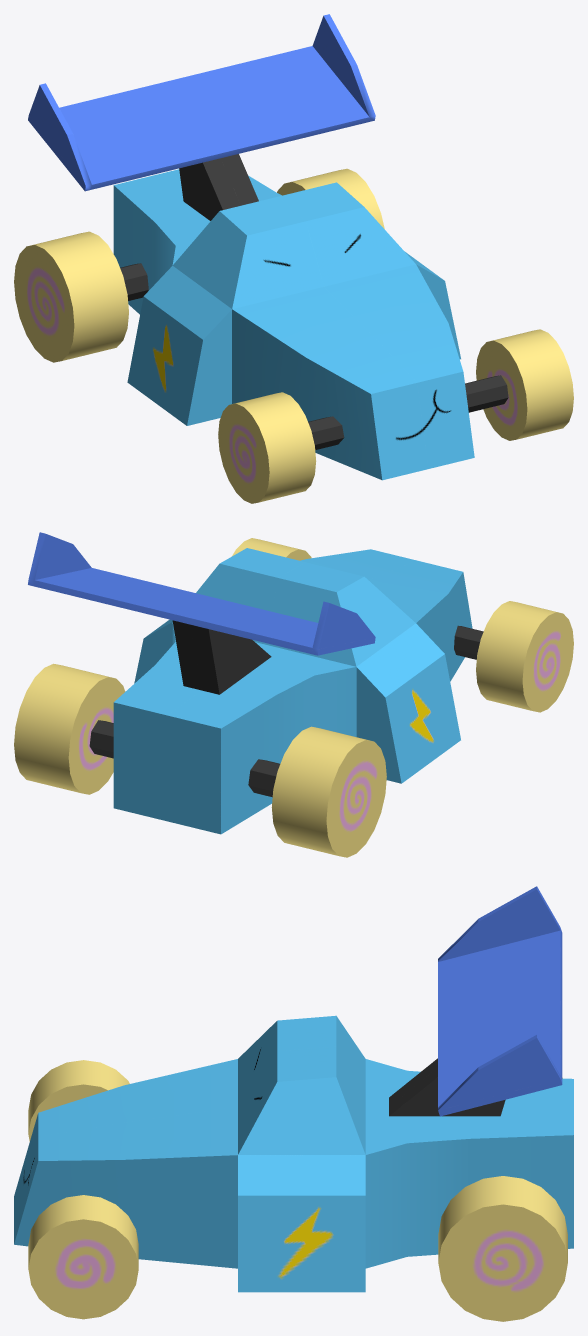
Rendered from Go Kartv2.fbx.
3 views of the same model, one above another, from view 1: azimuth 30°, elevation 25°; view 2: azimuth 150°, elevation 25°; view 3: azimuth 270°, elevation 25° (orthographic). The views are drawn at different scales.
Visible parts, largest first — view 1: pCube1, pCube3, pCylinder5, pCylinder3, pCylinder2, pCube2, pCylinder1, pCylinder4, pCylinder6; view 2: pCube1, pCube3, pCylinder5, pCylinder4, pCylinder3, pCube2, pCylinder6, pCylinder2, pCylinder1; view 3: pCube1, pCube3, pCylinder4, pCylinder2, pCylinder3, pCube2.
Boxes of the visible parts, x1=… form: pCube1: x1=113, y1=169, x2=474, y2=480; pCube3: x1=28, y1=14, x2=375, y2=191; pCylinder5: x1=14, y1=231, x2=128, y2=362; pCylinder3: x1=218, y1=392, x2=316, y2=503; pCylinder2: x1=476, y1=329, x2=573, y2=440; pCube2: x1=179, y1=154, x2=258, y2=220; pCylinder1: x1=308, y1=375, x2=508, y2=449; pCylinder4: x1=277, y1=168, x2=384, y2=229; pCylinder6: x1=120, y1=263, x2=148, y2=300; pCube1: x1=113, y1=548, x2=472, y2=834; pCube3: x1=28, y1=532, x2=375, y2=655; pCylinder5: x1=271, y1=726, x2=386, y2=857; pCylinder4: x1=14, y1=663, x2=125, y2=794; pCylinder3: x1=476, y1=601, x2=573, y2=712; pCube2: x1=172, y1=620, x2=271, y2=694; pCylinder6: x1=89, y1=720, x2=280, y2=797; pCylinder2: x1=232, y1=538, x2=311, y2=560; pCylinder1: x1=454, y1=625, x2=483, y2=659; pCube1: x1=14, y1=1015, x2=573, y2=1292; pCube3: x1=438, y1=886, x2=562, y2=1116; pCylinder4: x1=438, y1=1176, x2=567, y2=1321; pCylinder2: x1=28, y1=1195, x2=138, y2=1319; pCylinder3: x1=28, y1=1060, x2=129, y2=1141; pCube2: x1=389, y1=1058, x2=505, y2=1116.
Size of the model in its own units: 2.55 by 2.02 by 3.69.
1 material, 1 textured.
